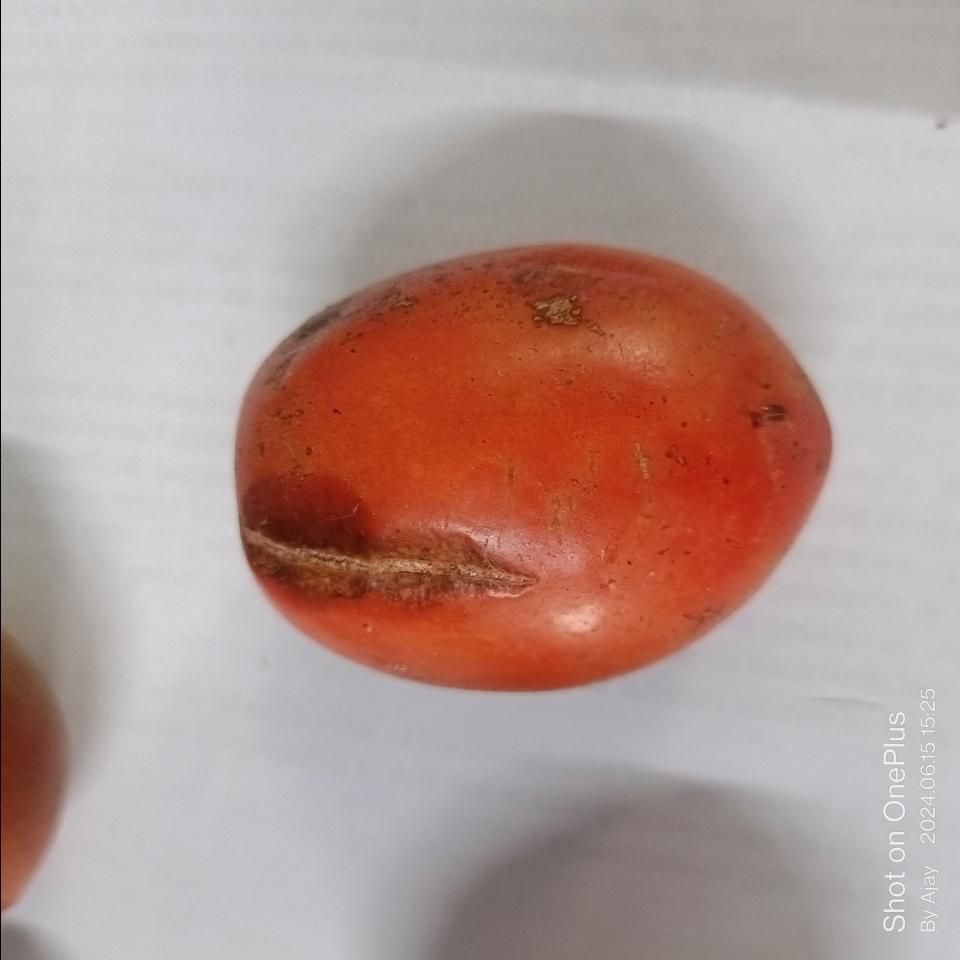Cracking: (227, 494, 559, 611)
